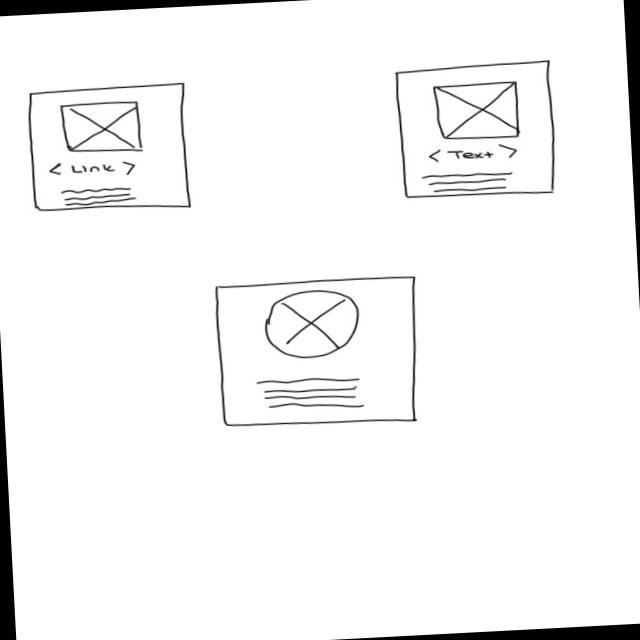container: (212, 273, 429, 435), (391, 58, 562, 203), (26, 82, 197, 220)
image: (264, 287, 364, 363), (433, 81, 526, 144), (60, 99, 147, 157)
link: (48, 158, 139, 182), (428, 143, 521, 165)
textbox: (255, 373, 369, 416), (422, 169, 516, 197), (60, 186, 139, 210)
